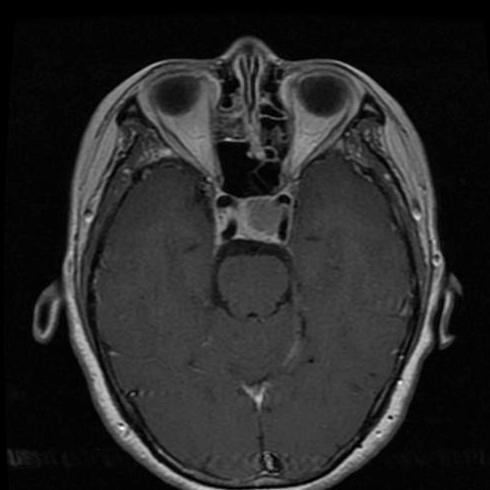Tumour-Pituitary: (212, 185, 301, 250)
